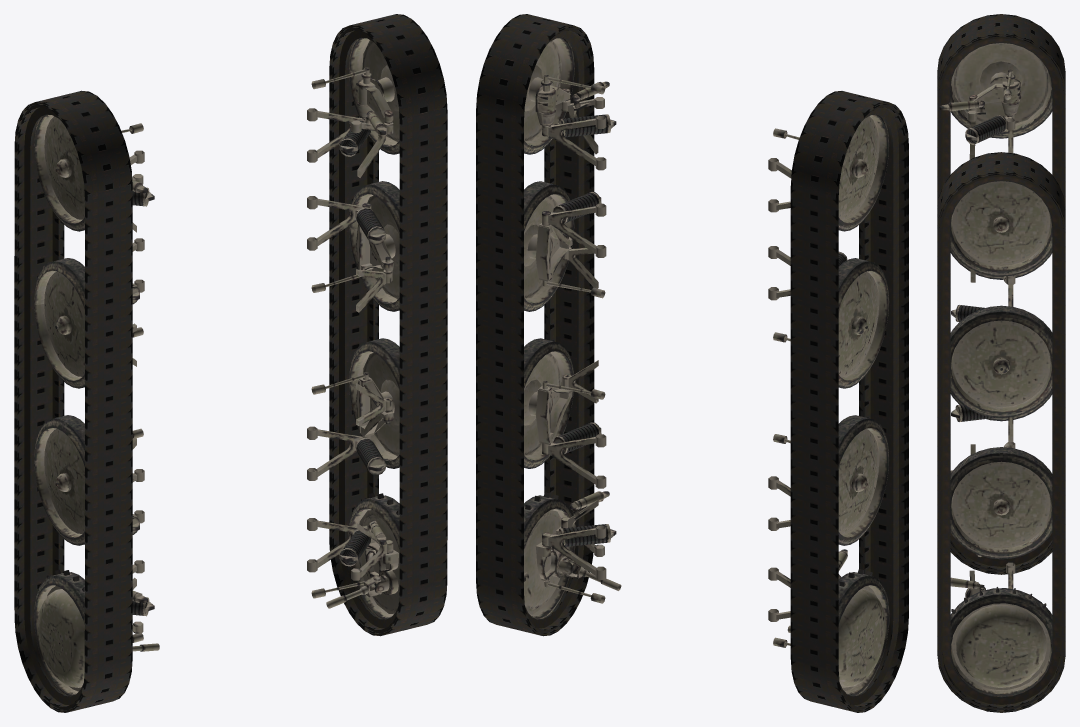
The model's file is Chassis.glb.
3 views of the same model, side by side, from view 1: azimuth 30°, elevation 25°; view 2: azimuth 150°, elevation 25°; view 3: azimuth 270°, elevation 25° (orthographic). The views are drawn at different scales.
Visible parts, largest first — view 1: set_0_group_0, set_1_group_0, set_3_group_0, set_2_group_0; view 2: set_0_group_0, set_1_group_0, set_3_group_0, set_2_group_0; view 3: set_3_group_0, set_1_group_0, set_2_group_0, set_0_group_0.
Part boxes in pixels (<box>): set_0_group_0: <box>14,90,132,712</box>; set_1_group_0: <box>329,14,447,636</box>; set_3_group_0: <box>307,38,399,619</box>; set_2_group_0: <box>34,114,159,695</box>; set_0_group_0: <box>790,91,908,712</box>; set_1_group_0: <box>476,14,594,636</box>; set_3_group_0: <box>524,38,621,619</box>; set_2_group_0: <box>768,114,889,695</box>; set_3_group_0: <box>950,181,1052,696</box>; set_1_group_0: <box>937,152,1065,712</box>; set_2_group_0: <box>939,43,1052,556</box>; set_0_group_0: <box>937,14,1065,574</box>.
Bounding box in the file's own units: 2.75 × 4.37 × 0.9412.
4 materials, 4 textured.
